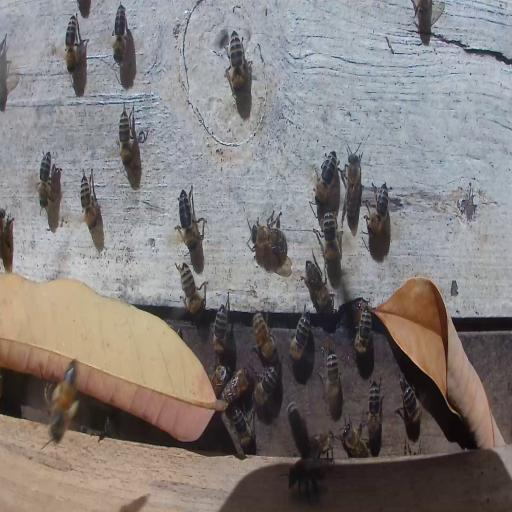nonpollenbee: (304, 258, 334, 320), (177, 188, 203, 253), (176, 260, 205, 318), (250, 221, 288, 264), (321, 345, 345, 411), (286, 458, 322, 501), (312, 150, 338, 205), (366, 181, 390, 240), (79, 165, 99, 233), (228, 30, 248, 96), (345, 149, 362, 224), (231, 405, 256, 455), (288, 306, 310, 362), (398, 376, 422, 427), (118, 104, 136, 171), (253, 310, 276, 360), (252, 366, 279, 408), (367, 375, 384, 440), (341, 419, 370, 457), (321, 211, 340, 269), (112, 3, 129, 67), (354, 299, 373, 355), (224, 366, 252, 402), (65, 14, 80, 76), (1, 206, 15, 272), (38, 150, 53, 210), (211, 302, 228, 354), (309, 430, 336, 461), (210, 364, 228, 399)
pollenbee: (47, 356, 80, 444)
